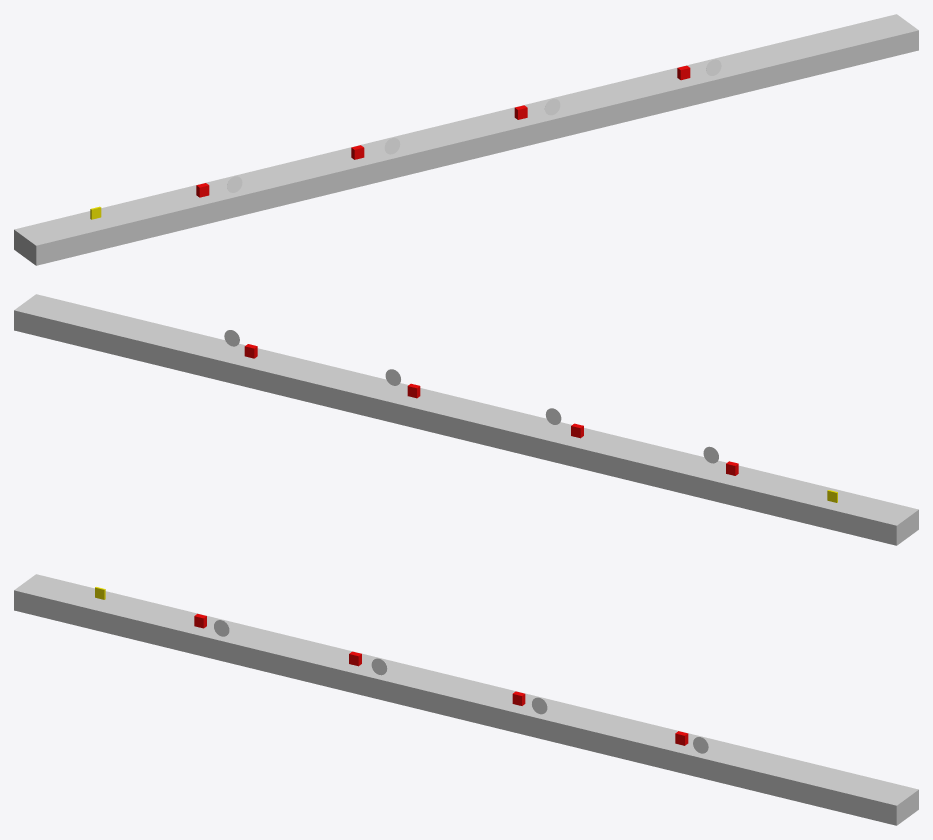
Rendered from 1-2StageScale.fbx.
The picture shows the model from 3 angles, top to bottom: view 1: azimuth 30°, elevation 25°; view 2: azimuth 150°, elevation 25°; view 3: azimuth 330°, elevation 25°; orthographic projection.
Visible parts, largest first — view 1: stage; view 2: stage; view 3: stage.
Part boxes in pixels (x1,y1,x2,y2): stage: [14, 14, 918, 265]; stage: [14, 294, 918, 545]; stage: [14, 574, 918, 825].
Bounding box in the file's own units: 45953 × 1815 × 2000.
